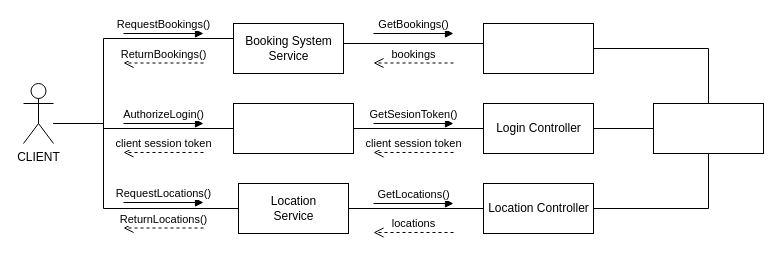
The diagram is 781 pixels wide and 260 high, and some of its shapes have lost their labels. Each missing label, with the box of its shape:
Booking Details Controller: (482, 22, 594, 74)
Database: (652, 102, 764, 154)
Login Service: (232, 102, 354, 154)
